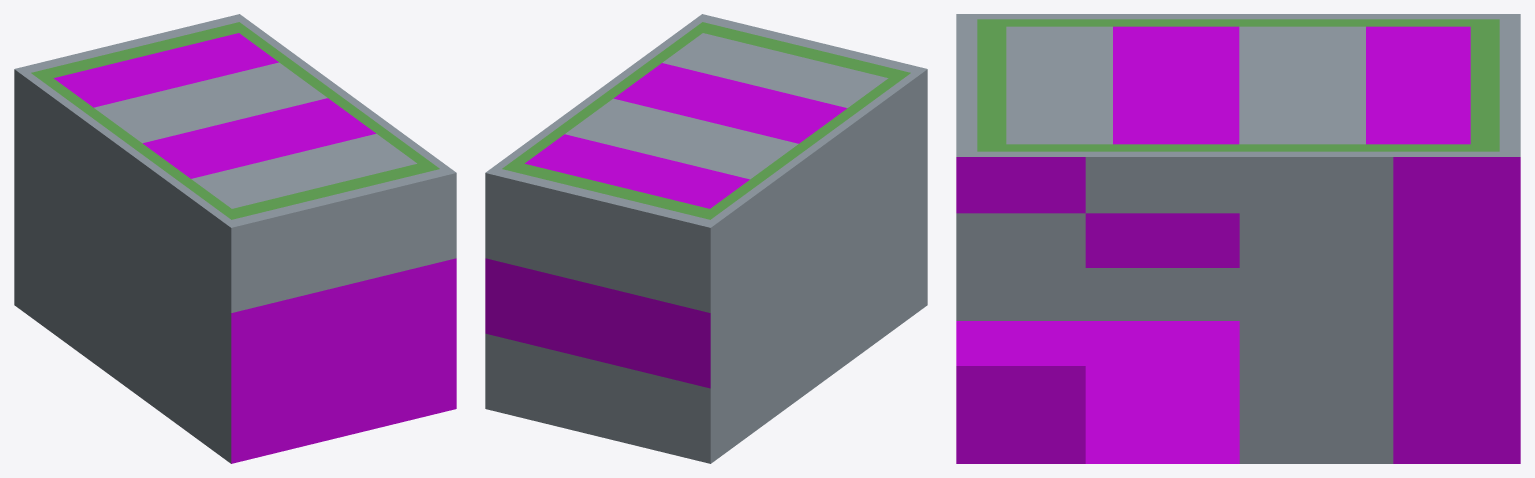
Rendered from untitledddd.fbx.
3 renders of one model, left to right at view 1: azimuth 30°, elevation 25°; view 2: azimuth 150°, elevation 25°; view 3: azimuth 270°, elevation 25°, orthographic. The views are drawn at different scales.
Parts seen in each view (by area): view 1: Cube.013; view 2: Cube.013; view 3: Cube.013.
Boxes of the visible parts, x1,y1,x2,y2 form: Cube.013: (14, 14, 456, 463); Cube.013: (485, 14, 927, 463); Cube.013: (956, 14, 1520, 463).
Bounding box in the file's own units: 1200 × 1200 × 2000.
